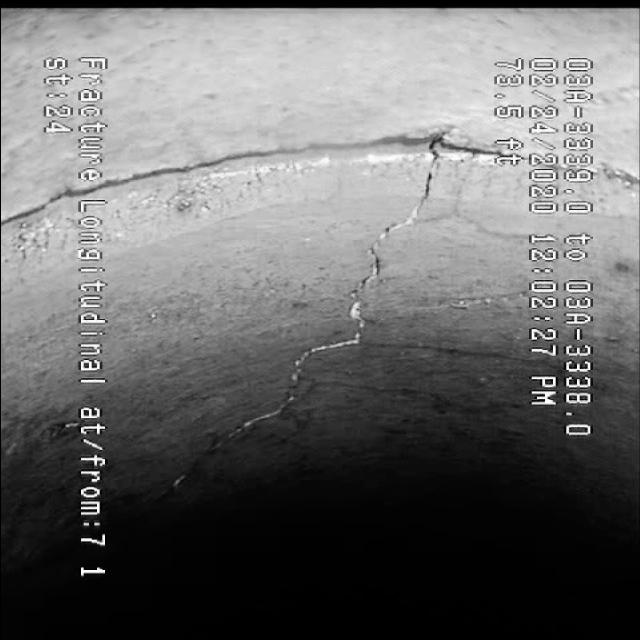Fracture: (224, 200, 452, 450)
